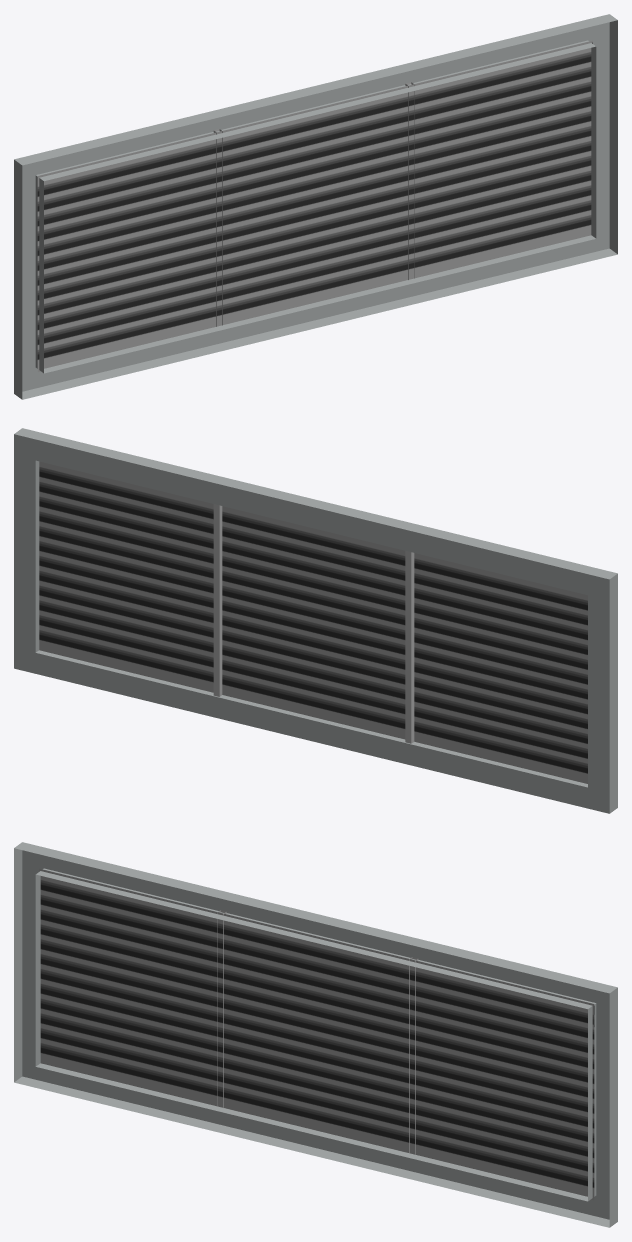
File: vent.fbx
The picture shows the model from 3 angles, top to bottom: view 1: azimuth 30°, elevation 25°; view 2: azimuth 150°, elevation 25°; view 3: azimuth 330°, elevation 25°; orthographic projection.
Parts seen in each view (by area): view 1: pPlane5; view 2: pPlane5; view 3: pPlane5.
Part boxes in pixels (<box>): pPlane5: <box>14,14,617,399</box>; pPlane5: <box>14,428,617,813</box>; pPlane5: <box>14,842,617,1227</box>.
Bounding box in the file's own units: 86.95 × 32.7 × 2.11.
1 material, 1 textured.
